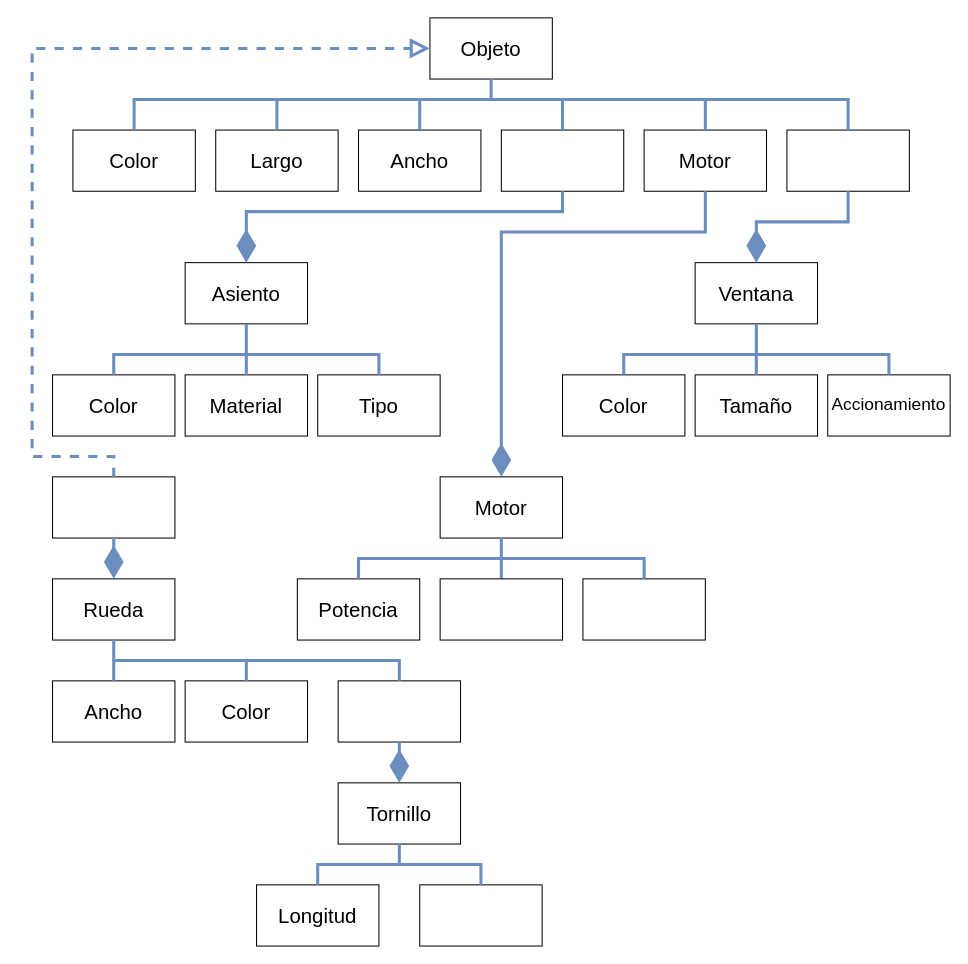
Some shapes in this 968 by 964 pixel diagram are drawn without their labels. Each missing label, with the centre of its shape:
"Asientos" belongs at pixel 562 160.
"Cilindros" belongs at pixel 501 609.
"Combustión" belongs at pixel 643 609.
"Rosca" belongs at pixel 480 915.
"Ruedas" belongs at pixel 113 507.
"Tornillos" belongs at pixel 399 711.
"Ventanas" belongs at pixel 847 160.
